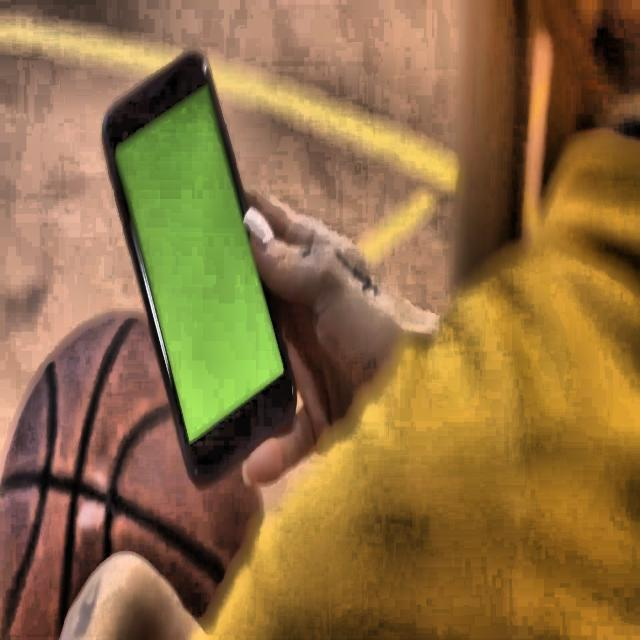Phone: (100, 48, 302, 490)
